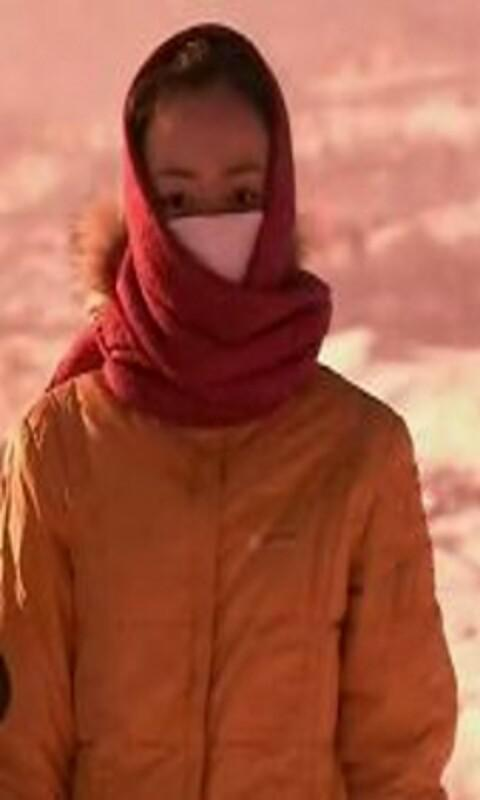OK: (146, 146, 287, 317)
